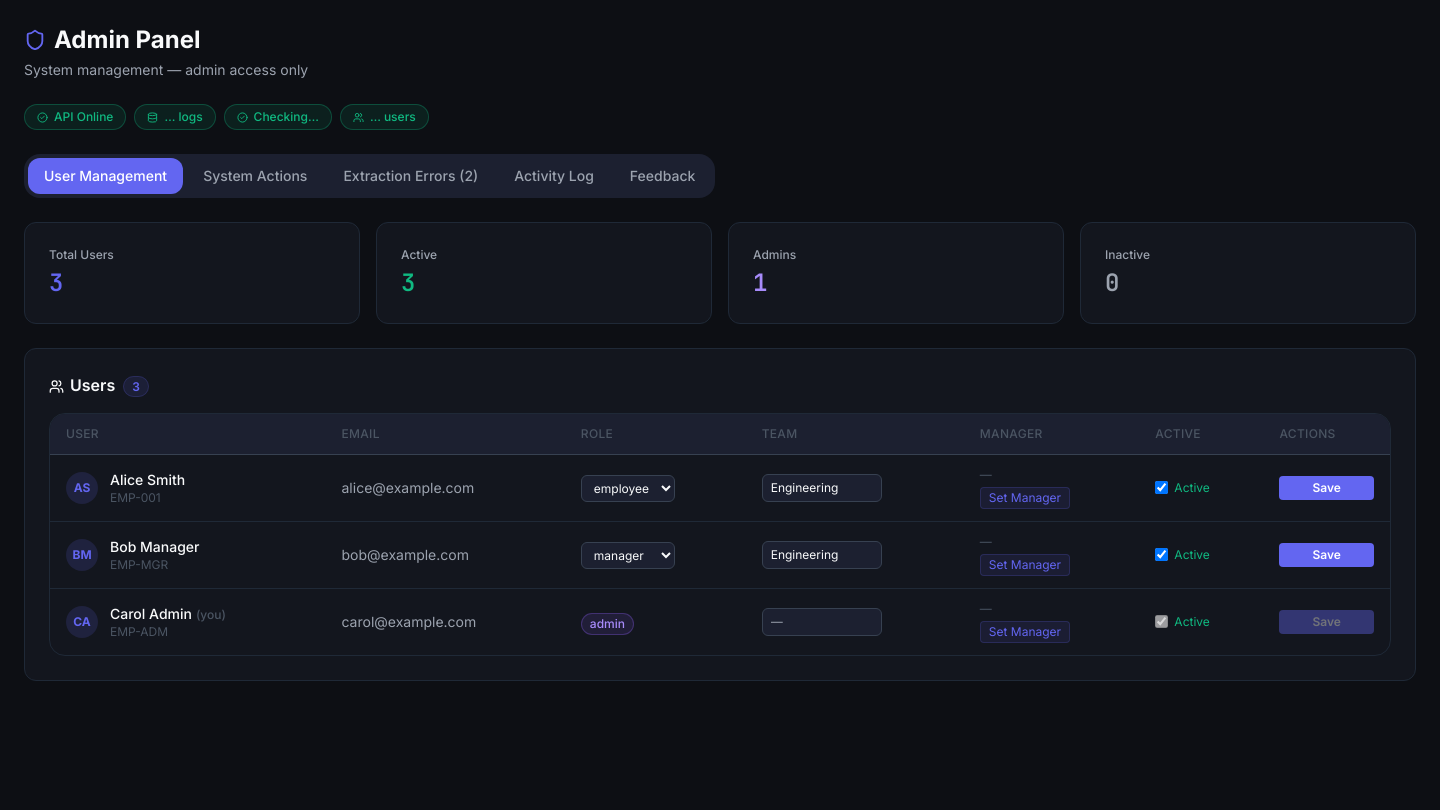
Test: AdminPage — Extraction Errors tab › shows error metric cards (total, failed, needs review)
Click the button "Extraction Errors (2)". click: [411, 176]
box: [327,158,494,194]
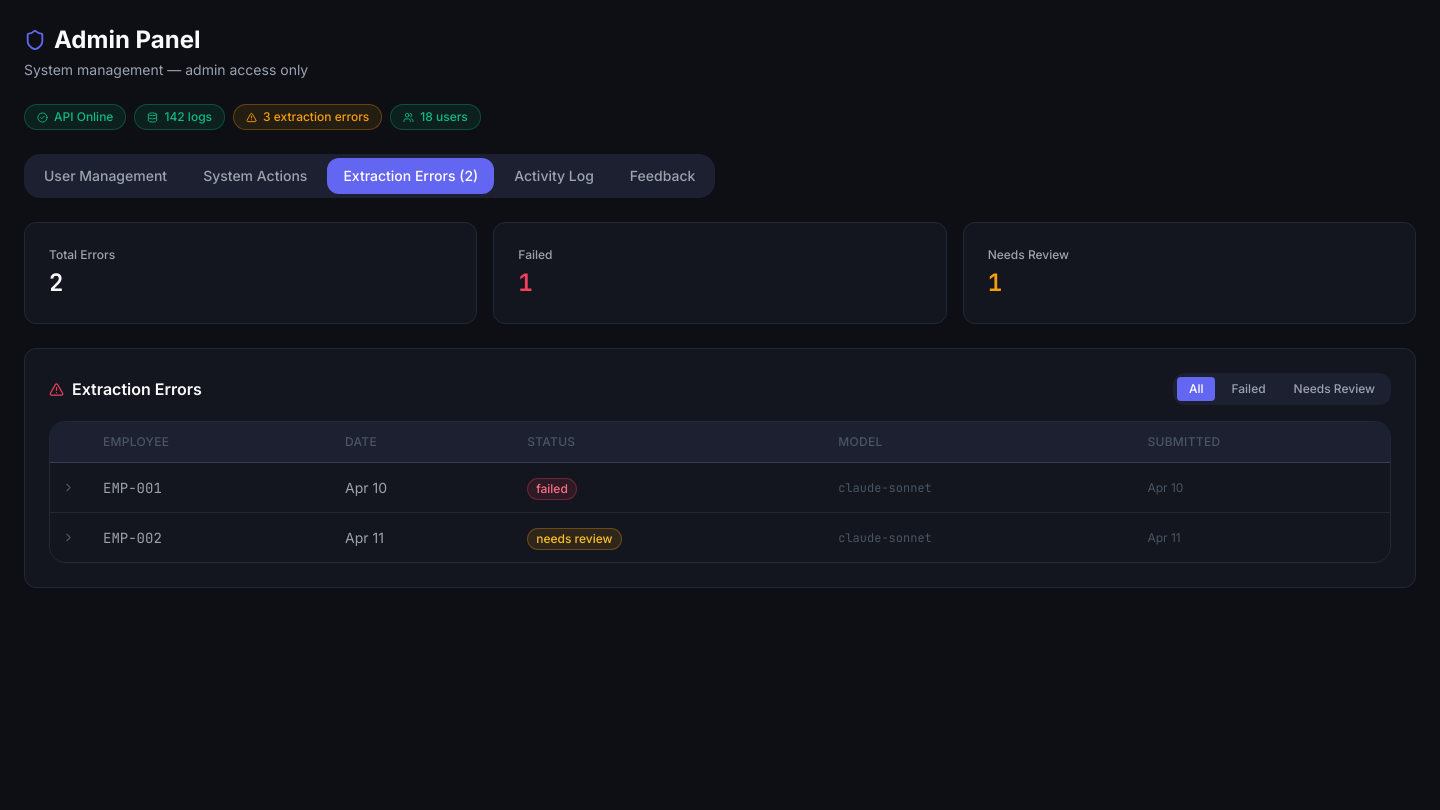
Expected: the text "Total Errors" is shown, [49,247,115,262]
Expected: the text "Failed" is shown, [518,247,552,262]
Expected: the text "Needs Review" is shown, [988,247,1069,262]
